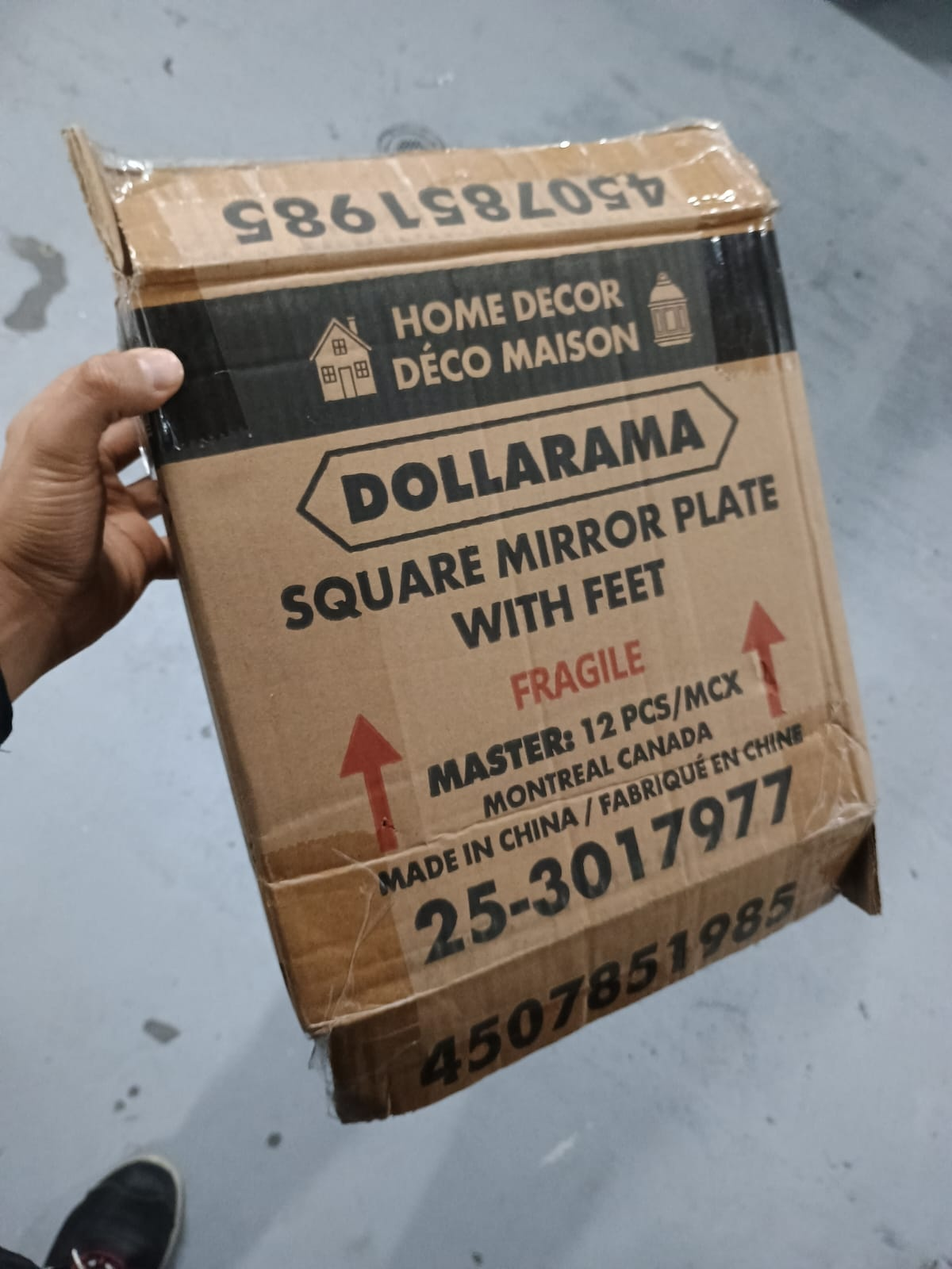Carton: (108, 120, 876, 1124)
